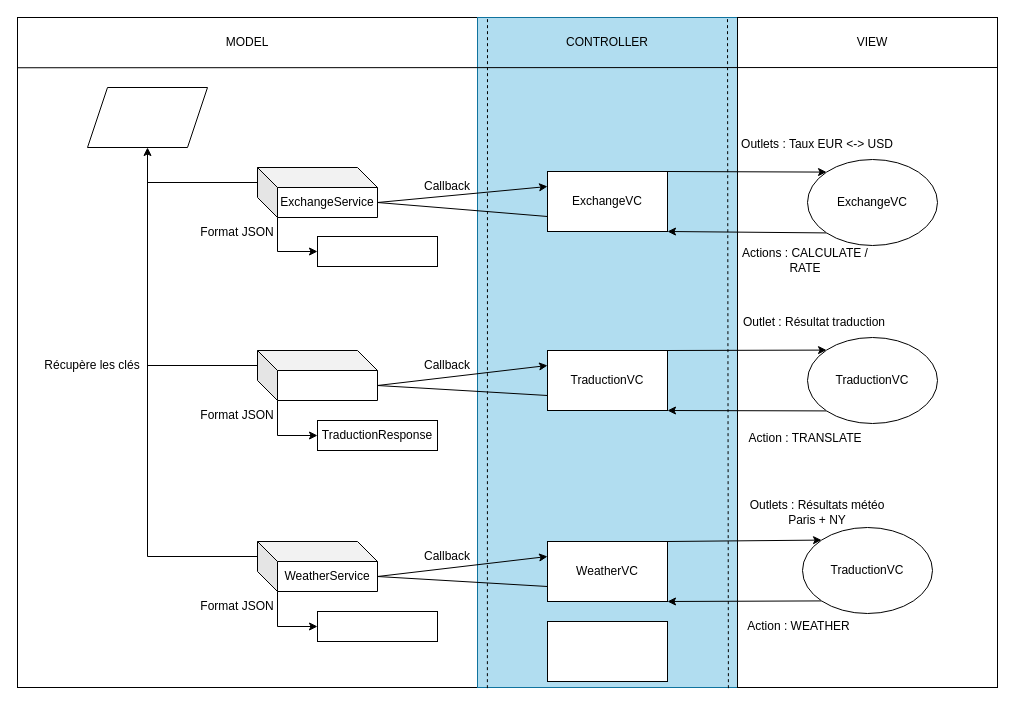
Image size: 1017x707. Some labels were removed from this diagram. The shapes that lost their labels are listed below. From the top down, each one's centre as x and y in pixels, then its label:
the point at 147,117: APIKeys
the point at 377,251: ExchangeResponse
the point at 317,375: TraductionService
the point at 377,626: WeatherResponse
the point at 607,651: Extension
